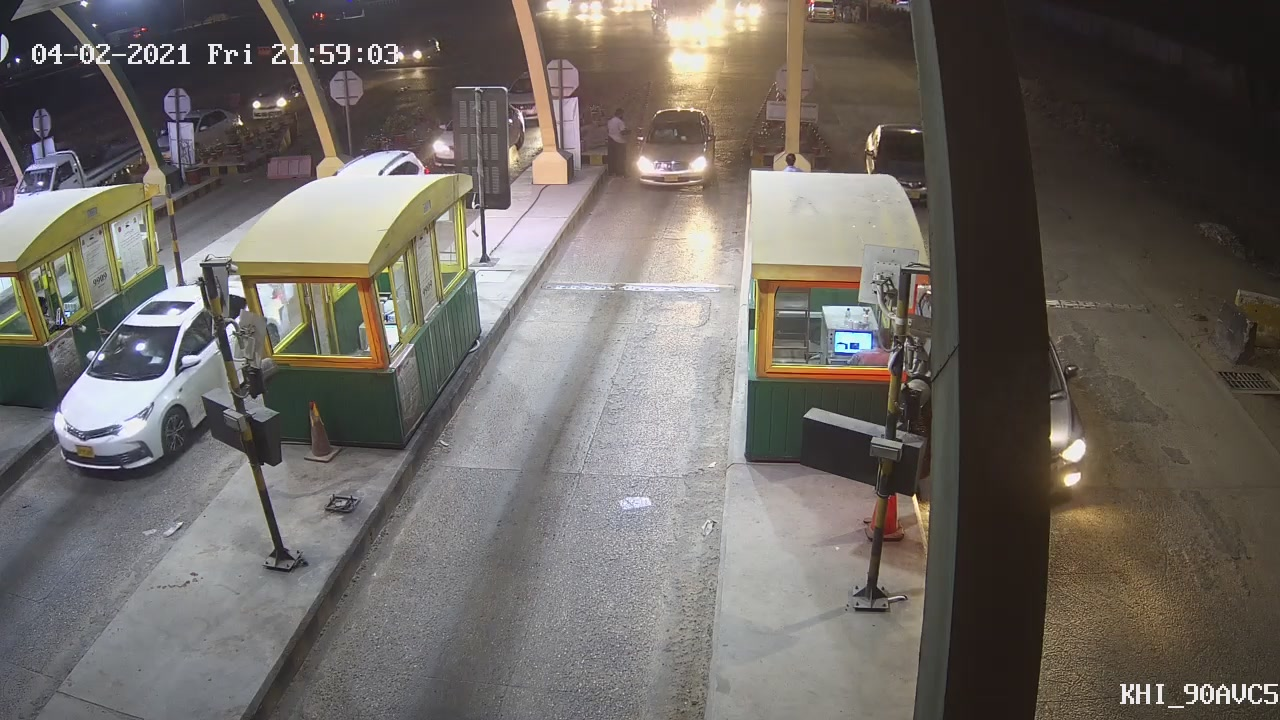F1: (631, 101, 720, 201)
